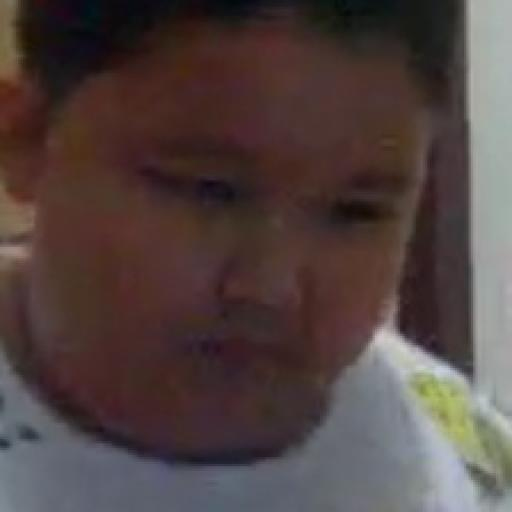Autism: (48, 5, 452, 454)
